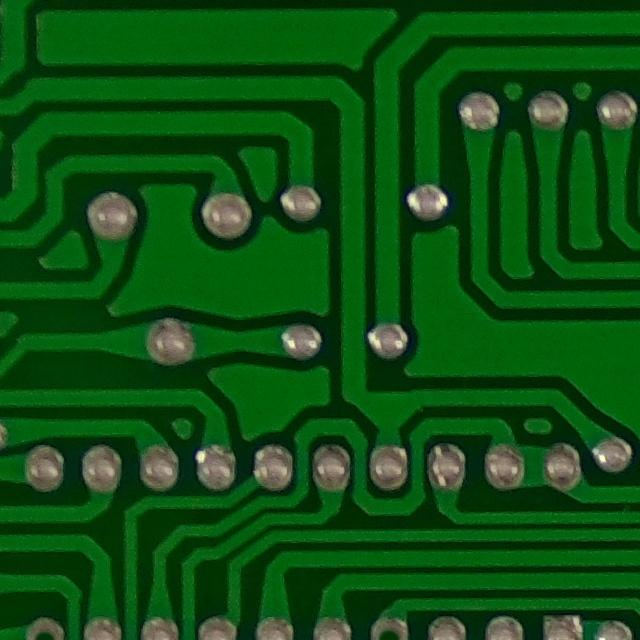missing_hole: (362, 609, 418, 640)
